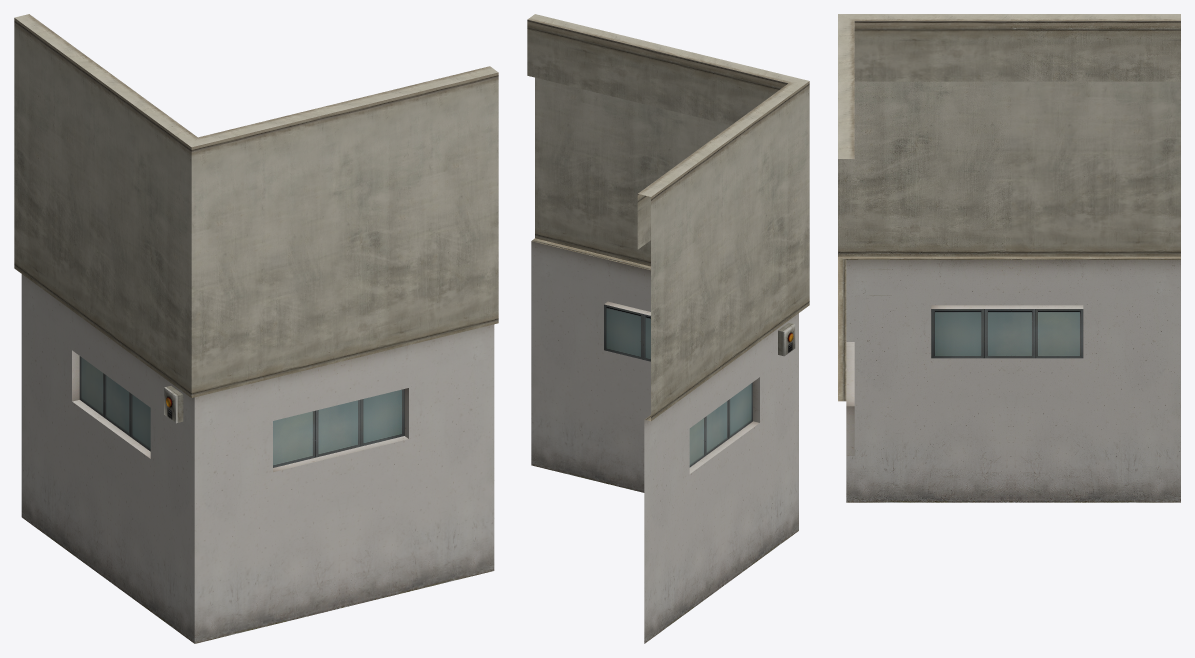
File: SM_ind_building_04.fbx
3 renders of one model, left to right at view 1: azimuth 30°, elevation 25°; view 2: azimuth 150°, elevation 25°; view 3: azimuth 270°, elevation 25°, orthographic. The views are drawn at different scales.
Parts seen in each view (by area): view 1: SM_ind_building_04; view 2: SM_ind_building_04; view 3: SM_ind_building_04.
Part boxes in pixels (box(x1,y1,x2,y2)): SM_ind_building_04: box(14, 14, 498, 643); SM_ind_building_04: box(527, 14, 809, 643); SM_ind_building_04: box(838, 14, 1180, 502).
Bounding box in the file's own units: 659 × 656 × 1024.
3 materials, 3 textured.
